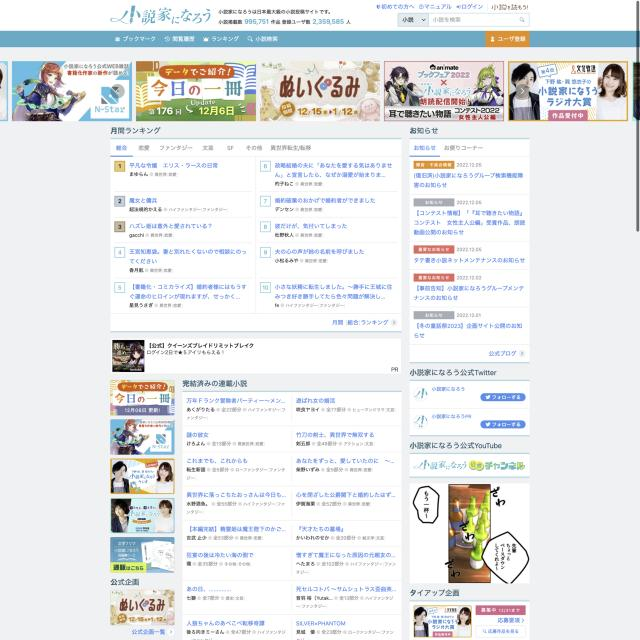CheckBox: (486, 31, 530, 47), (398, 13, 428, 26)
CheckedTextView: (428, 13, 530, 26)
ImageView: (410, 483, 530, 584), (111, 338, 402, 374), (136, 60, 256, 121), (110, 380, 175, 416), (110, 419, 174, 455), (110, 458, 174, 494), (111, 498, 174, 534)
QR code: (110, 159, 401, 313), (410, 156, 530, 344)
alert: (401, 15, 427, 24)
carousel: (518, 16, 526, 24)
date picker: (109, 2, 213, 28)
decoration: (112, 32, 281, 46), (372, 0, 530, 12)
footer: (433, 16, 462, 24)
icon: (110, 138, 402, 158)
